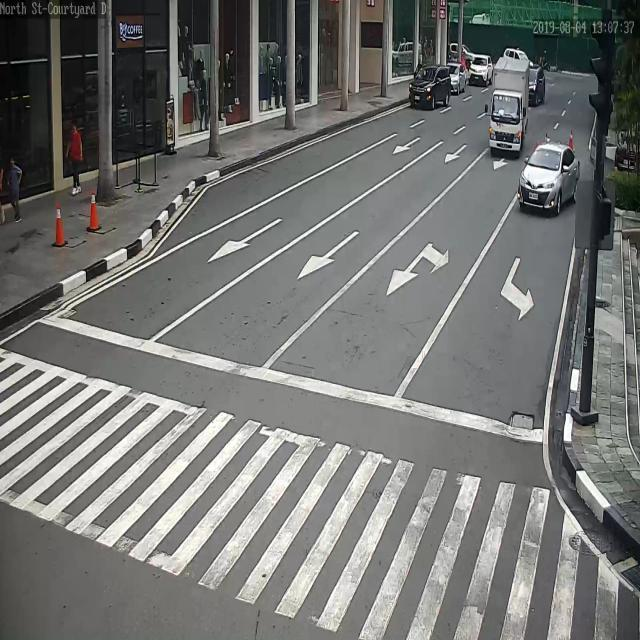car: (517, 141, 580, 213), (408, 64, 451, 109), (468, 55, 493, 87), (529, 64, 546, 107), (448, 62, 466, 93), (504, 47, 533, 65)
jeepney: (614, 127, 639, 176)
motorcycle: (489, 56, 531, 154)
